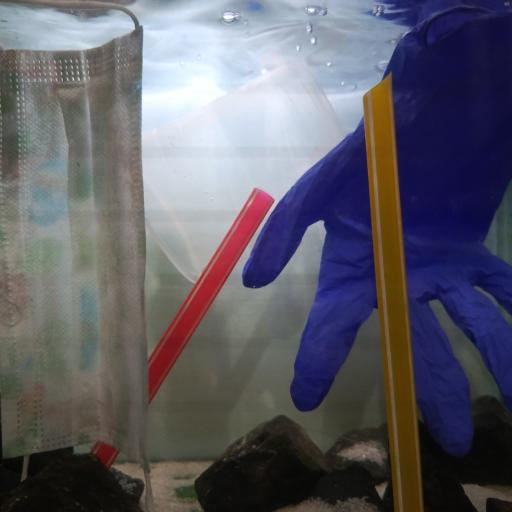glove: (243, 0, 512, 458)
mask: (0, 0, 155, 486)
plastic_cup: (143, 58, 347, 285)
plastic_straw: (88, 188, 276, 464), (360, 74, 424, 512)
